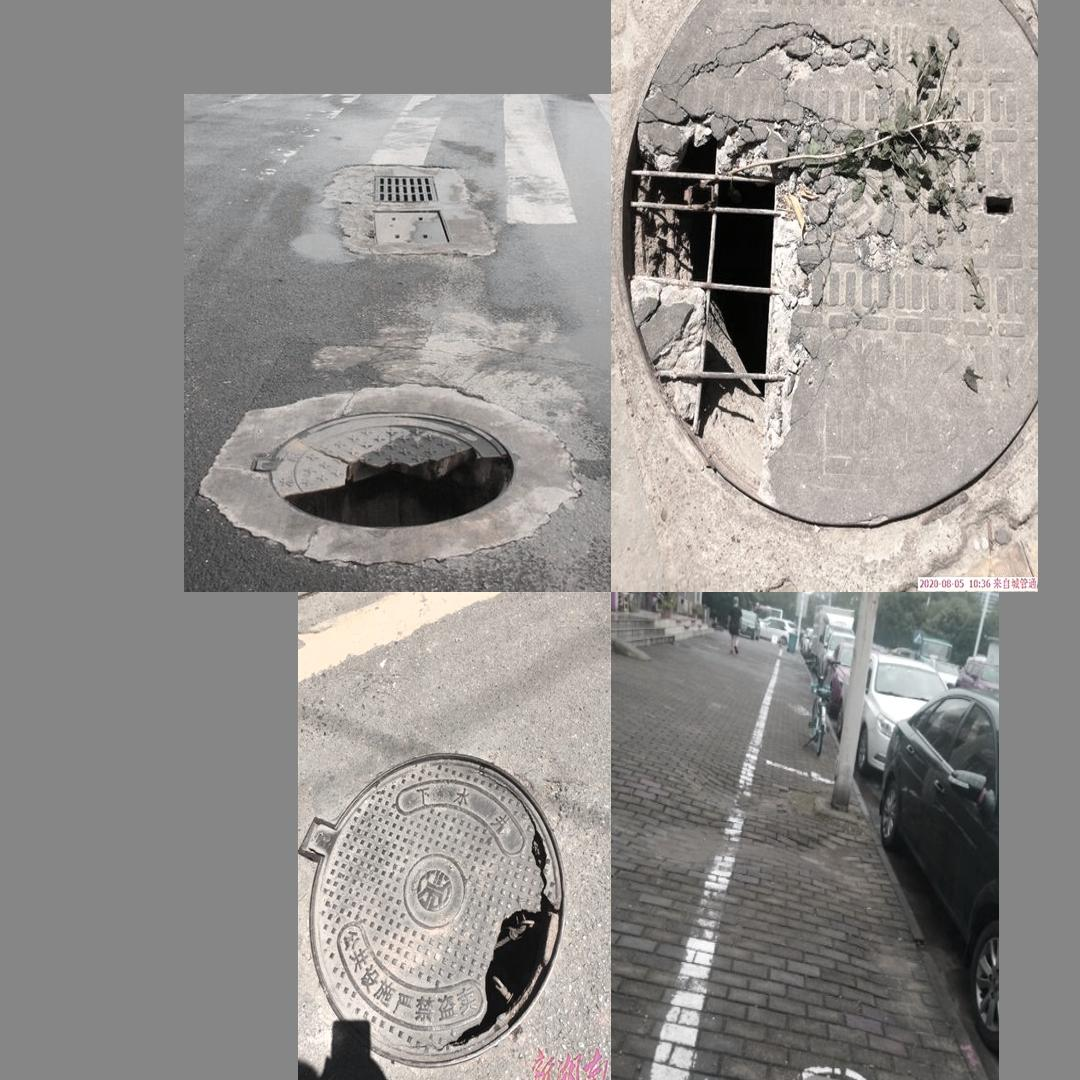broke: (622, 0, 1028, 522), (303, 734, 565, 1064), (211, 358, 571, 573), (805, 1071, 968, 1080)
